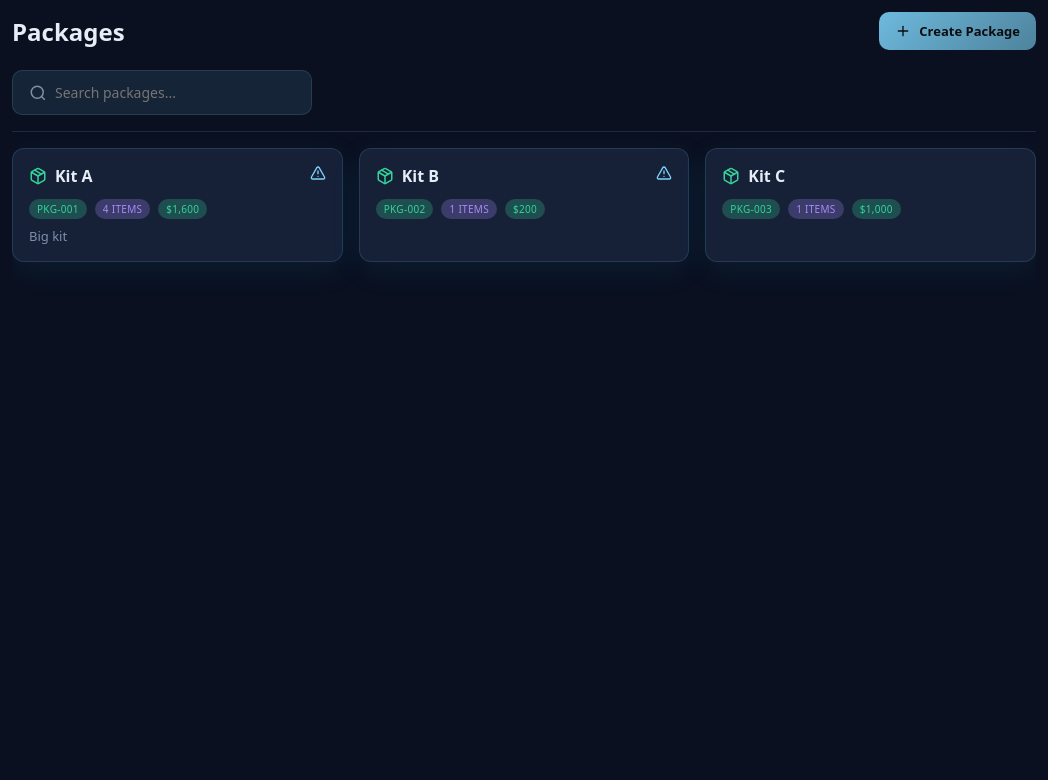
Test: Package detail — availability panel › lists unavailable items, shortfalls, and deleted refs specifically
Click the heading "Kit A" at (74, 176), box left=55, top=165, right=93, bottom=187
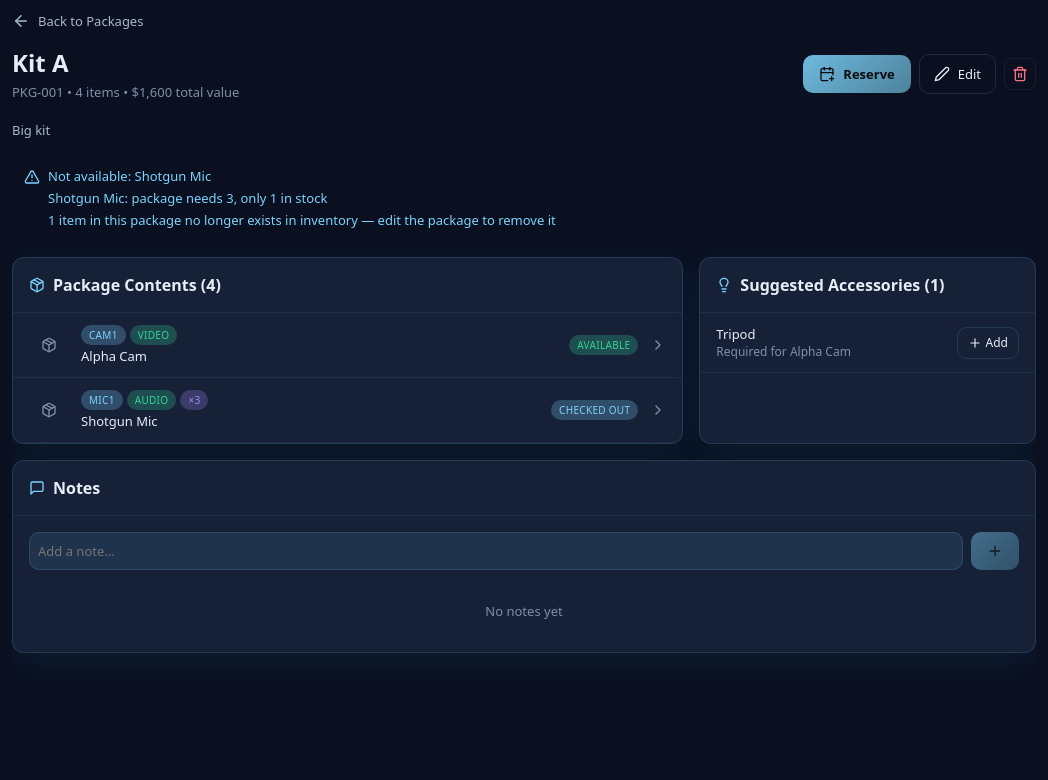
Result: the text "Not available: Shotgun Mic" is shown at left=48, top=167, right=211, bottom=185
Result: the text "Shotgun Mic: package needs 3, only 1 in stock" is shown at left=48, top=189, right=327, bottom=207
Result: the text "1 item in this package no longer exists in inventory" is shown at left=48, top=211, right=556, bottom=229
